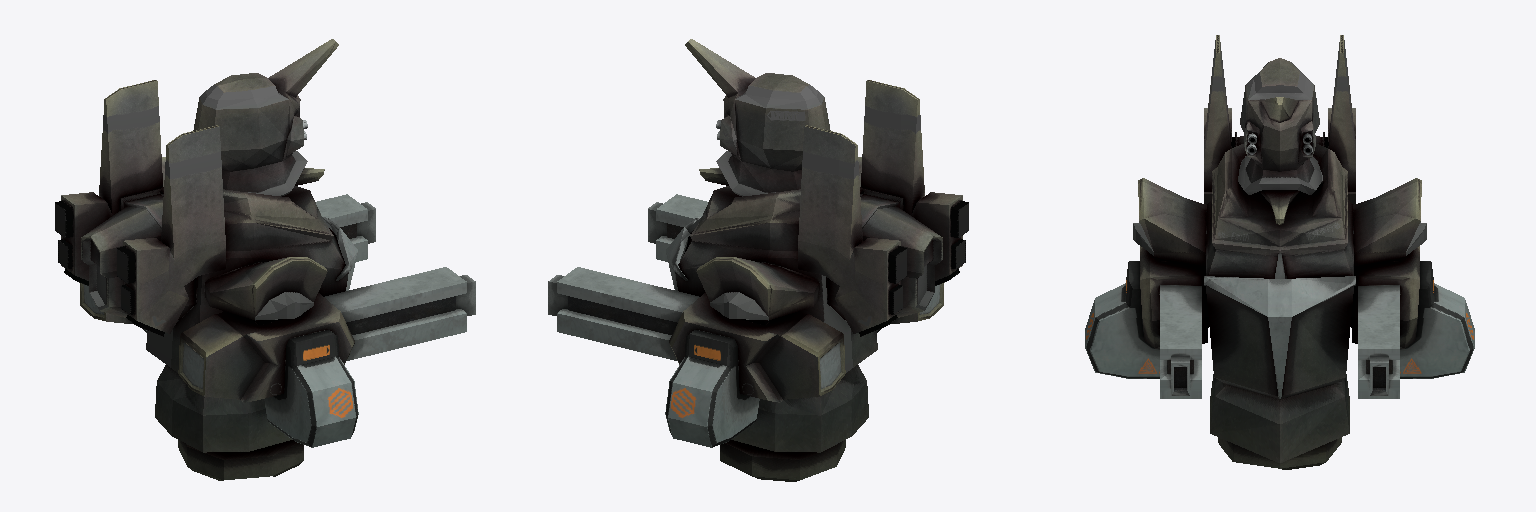
3 views of the same model, side by side, from view 1: azimuth 30°, elevation 25°; view 2: azimuth 150°, elevation 25°; view 3: azimuth 270°, elevation 25° (orthographic).
Parts seen in each view (by area): view 1: Mecha_Earth_Top, Mecha_Earth_Bot; view 2: Mecha_Earth_Top, Mecha_Earth_Bot; view 3: Mecha_Earth_Top, Mecha_Earth_Bot.
Part boxes in pixels (x1,y1,x2,y2): Mecha_Earth_Top: (55, 39, 475, 452); Mecha_Earth_Bot: (178, 440, 303, 480); Mecha_Earth_Top: (548, 39, 968, 452); Mecha_Earth_Bot: (720, 440, 845, 481); Mecha_Earth_Top: (1085, 35, 1474, 462); Mecha_Earth_Bot: (1218, 437, 1341, 469).
Size of the model in its own units: 87.49 by 99.63 by 89.29.
Materials: 1 (1 with a texture image).